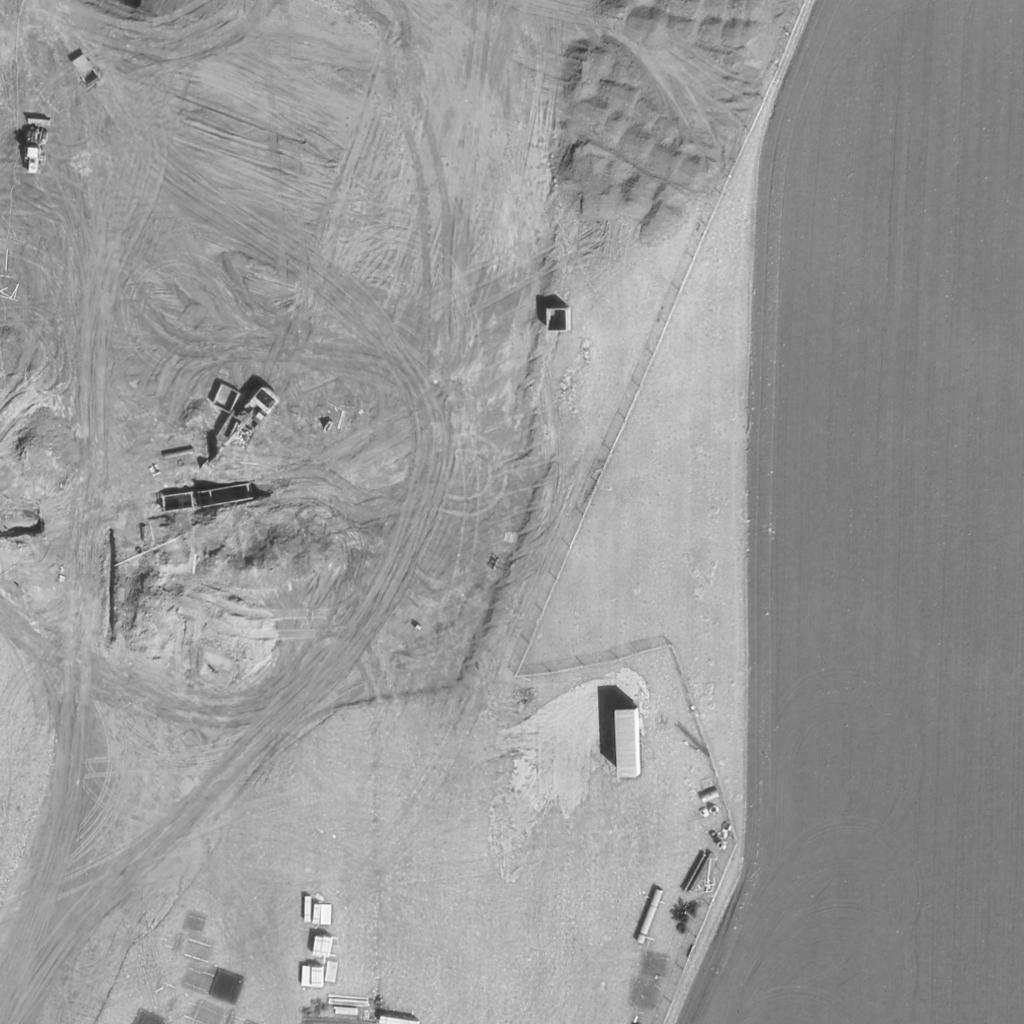vehicle: (195, 387, 283, 481), (22, 118, 50, 176)
